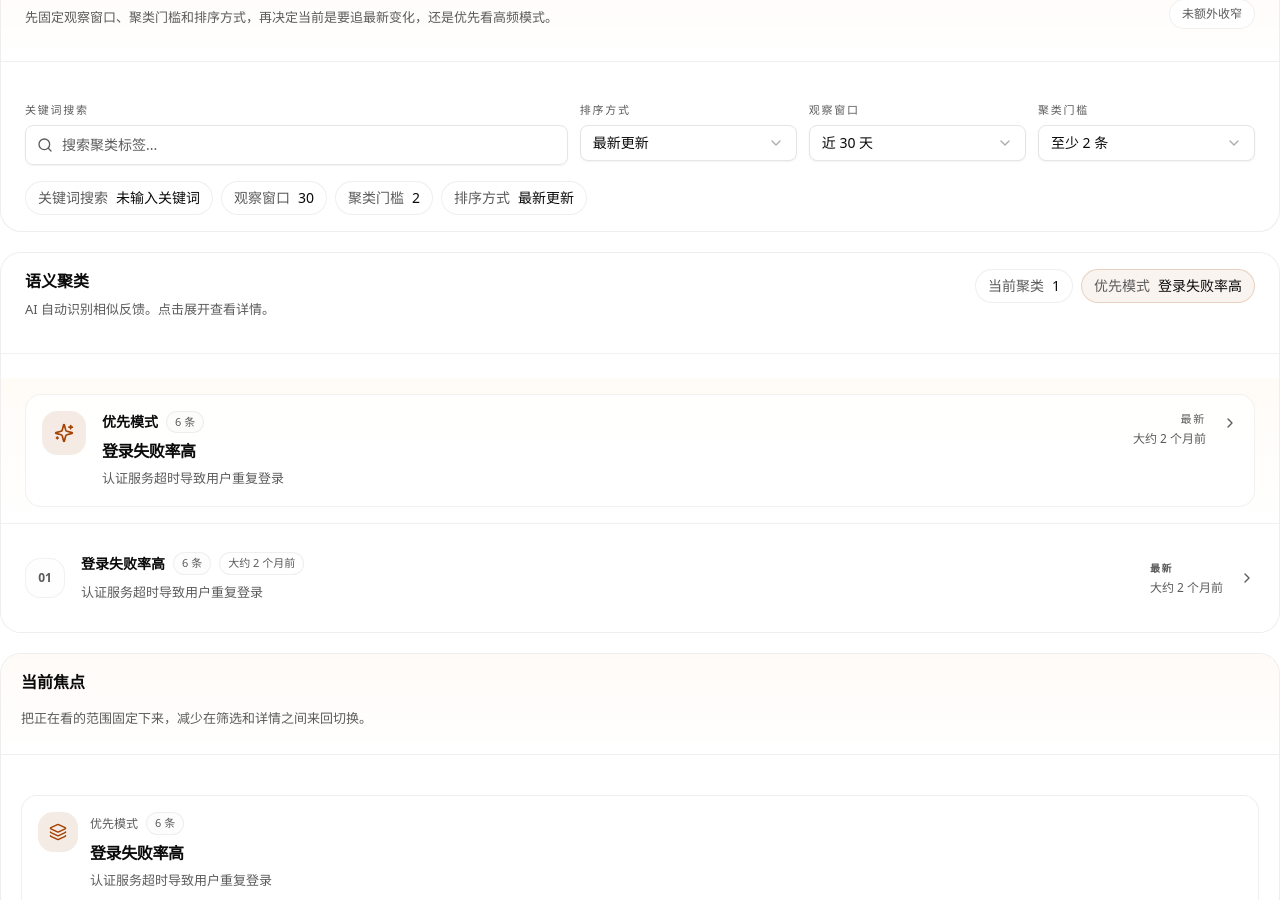
Test case: ClustersPage › opens the members sheet when selecting a cluster
(page scrolled)
Expected: the 1st text "登录失败率高" is shown, 1158,276 -> 1242,296
Click the button "登录失败率高".
click(64, 433)  # box 25,394 -> 1255,507
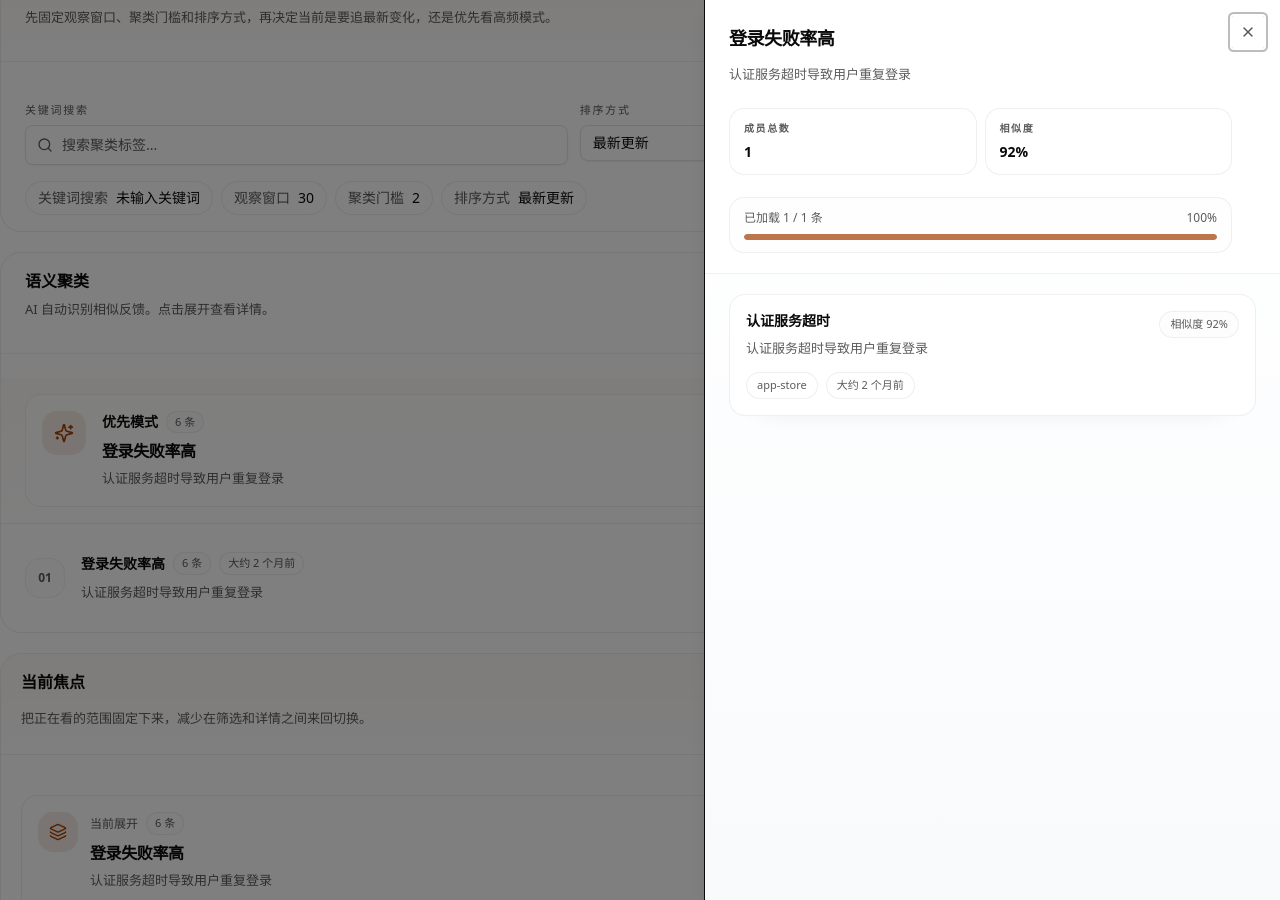
Expected: the text "成员总数" is shown, 744,121 -> 790,135
Expected: the text "认证服务超时" is shown, 746,311 -> 830,330
Expected: the text "相似度 92%" is shown, 1159,311 -> 1239,338
